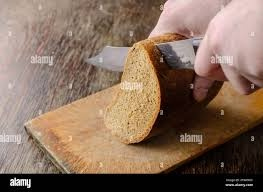knife: (85, 37, 220, 71)
